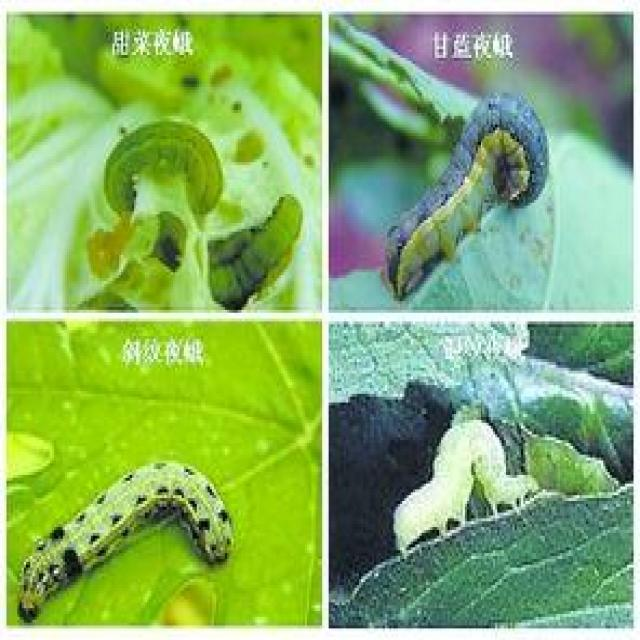BeetArmyWorm-Larva-: (17, 450, 240, 620), (98, 116, 225, 224)
